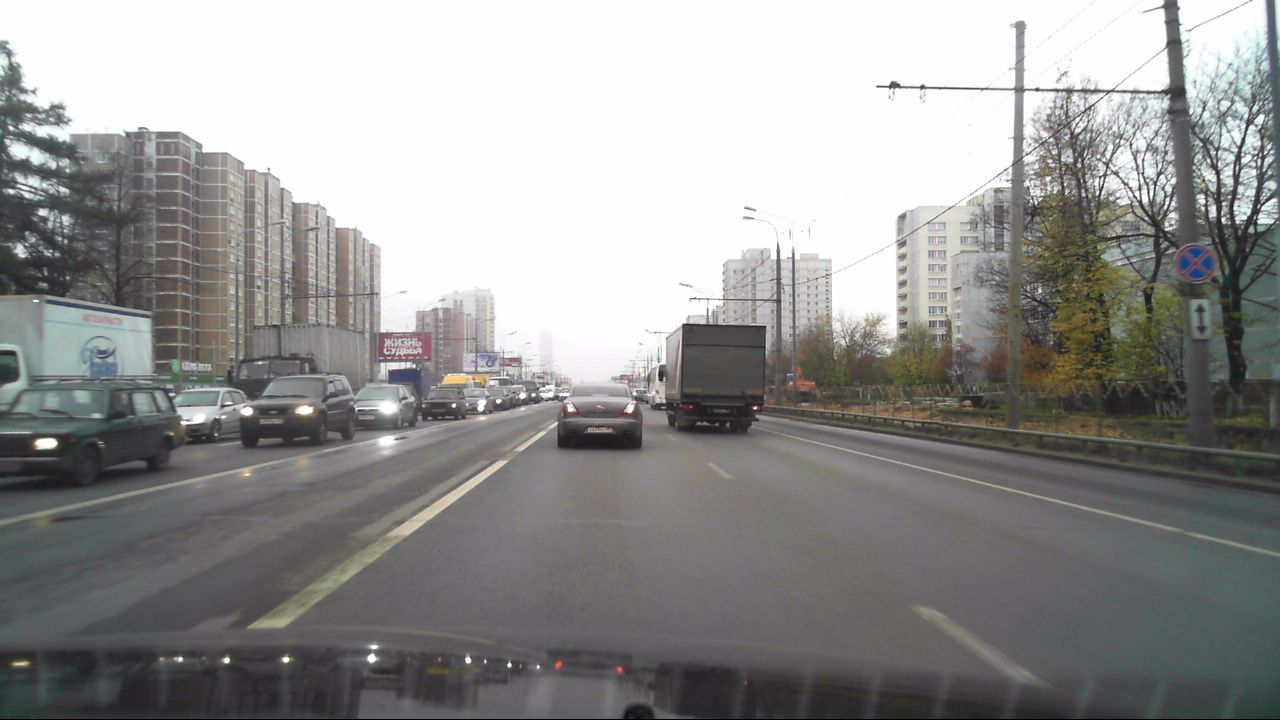No Parking: (1173, 243, 1214, 282)
